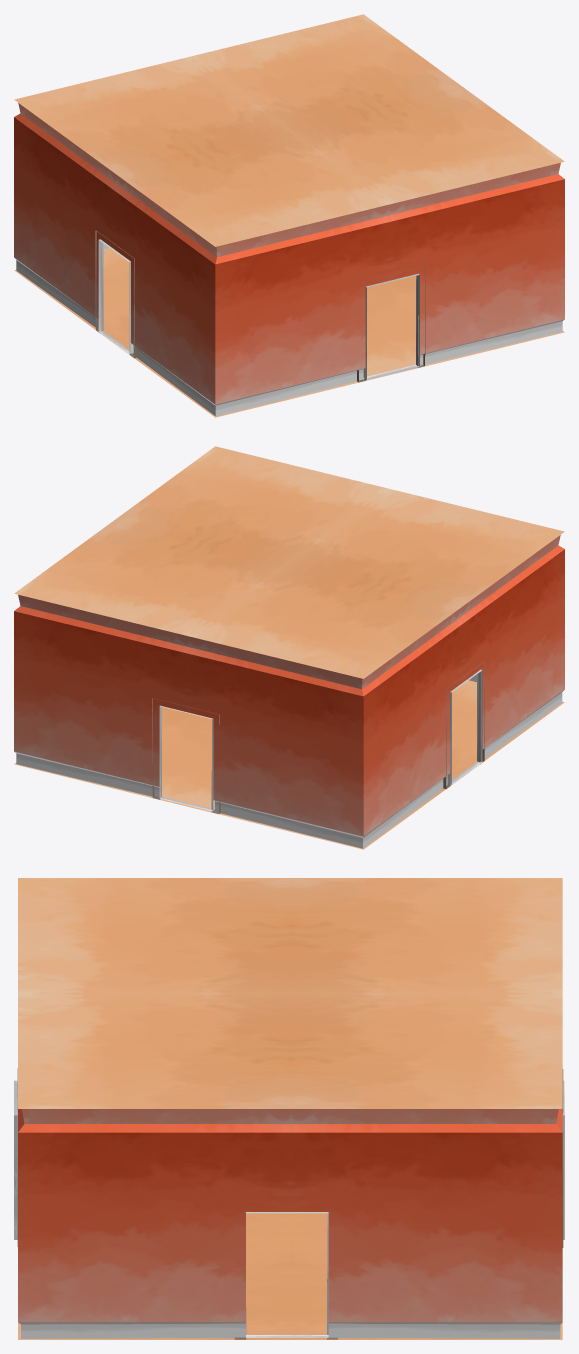
The model's file is Room_10x10_01.gltf.
3 renders of one model, top to bottom at view 1: azimuth 30°, elevation 25°; view 2: azimuth 150°, elevation 25°; view 3: azimuth 270°, elevation 25°, orthographic. The views are drawn at different scales.
Visible parts, largest first — view 1: Room_10x10_01; view 2: Room_10x10_01; view 3: Room_10x10_01.
Part boxes in pixels (bbox=[...]): Room_10x10_01: bbox=[14, 14, 564, 417]; Room_10x10_01: bbox=[14, 446, 564, 849]; Room_10x10_01: bbox=[14, 878, 564, 1339].
Size of what is drawn, in the model's own units: 10.03 by 4.63 by 10.01.
1 material, 1 textured.
